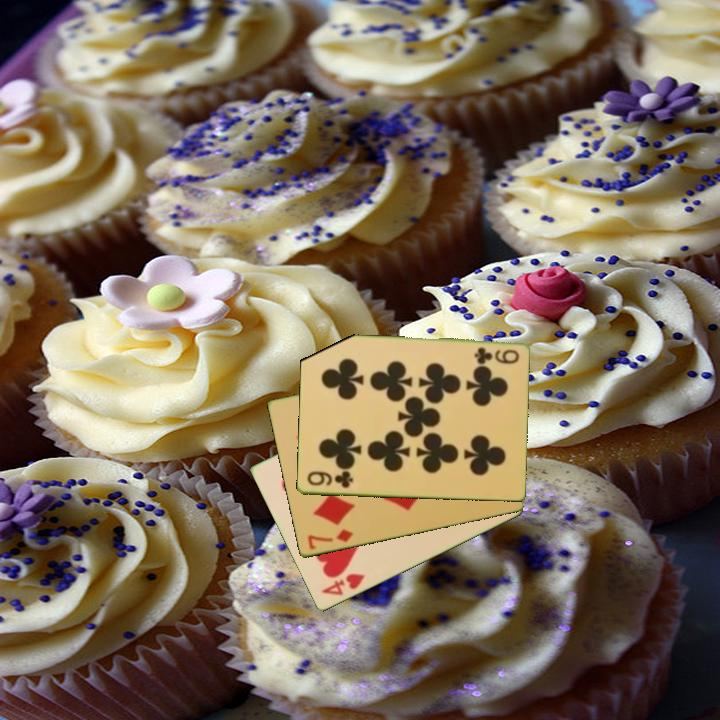4h: (318, 570, 368, 599)
7d: (304, 526, 356, 553)
9c: (303, 469, 356, 491), (470, 344, 521, 366)
